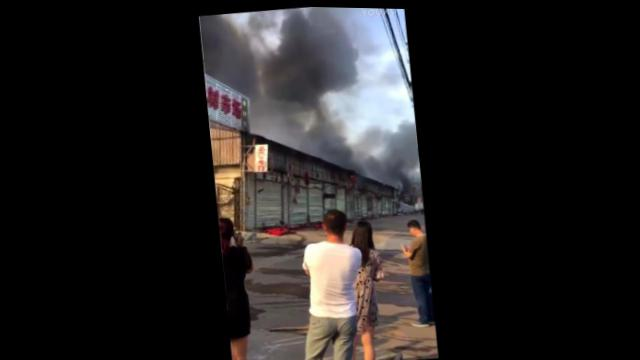smoke: (254, 4, 362, 101), (200, 13, 259, 97), (356, 119, 421, 179), (252, 93, 310, 143), (312, 110, 357, 166)
